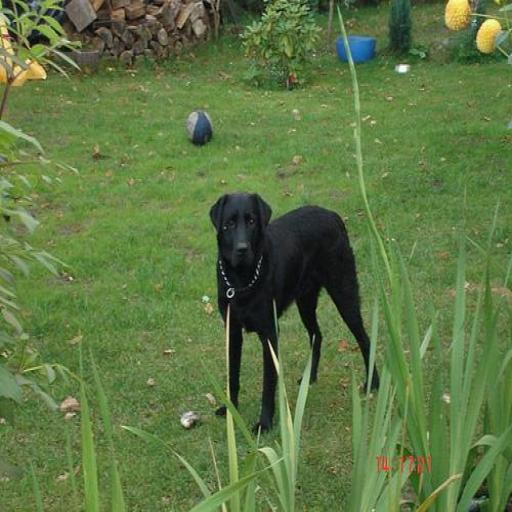dog_face: (208, 190, 273, 270)
